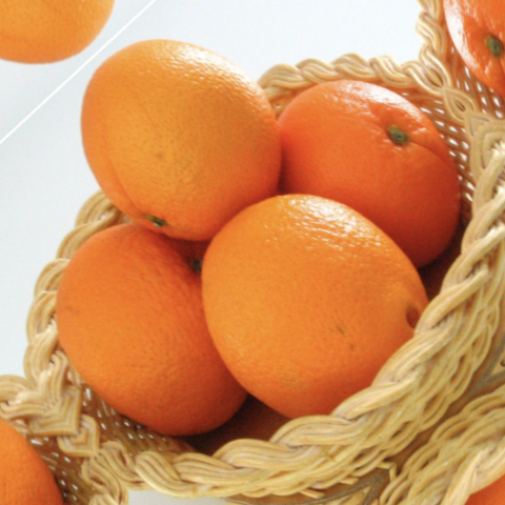orange: (133, 121, 488, 478), (0, 180, 298, 485), (21, 0, 309, 275), (227, 22, 492, 287)
